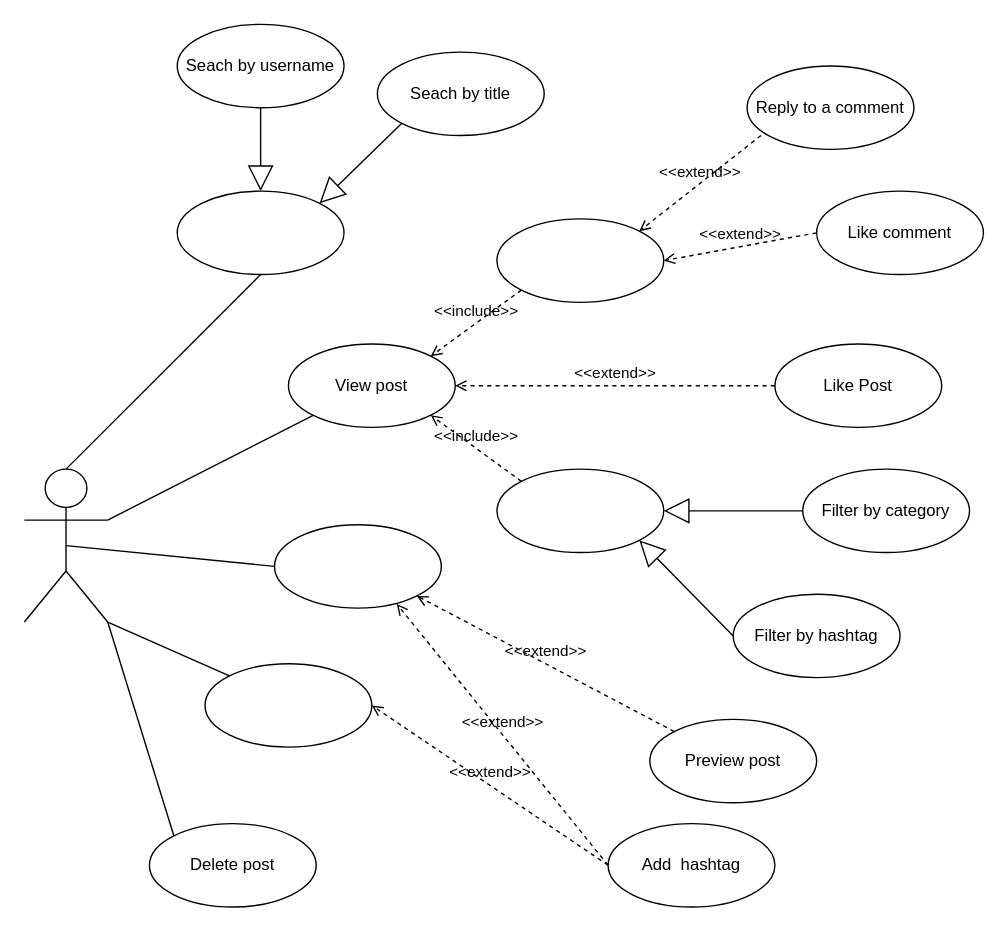
The diagram is 1008 pixels wide and 931 high, and some of its shapes have lost their labels. The centre of each missing label's shape, as x and y in pixels:
Comment: the point at 580,260
Create post: the point at 357,565
Edit post: the point at 288,704
Filter posts: the point at 580,510
Search post: the point at 260,232
User: the point at 65,545
